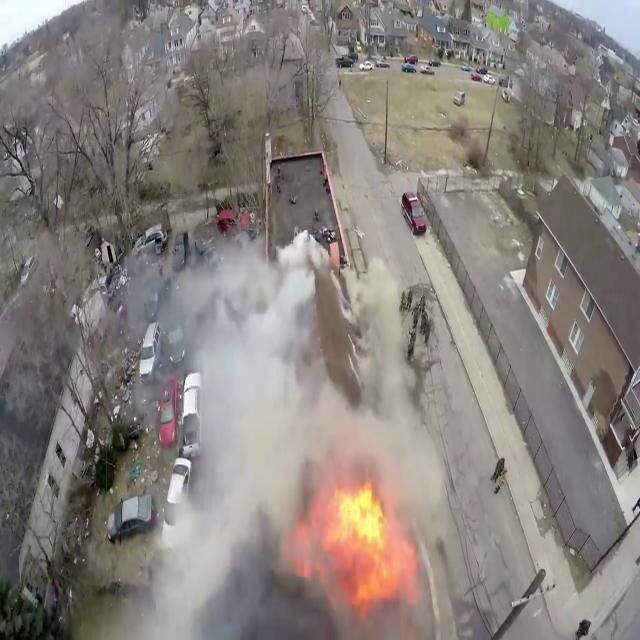Fire: (307, 470, 413, 614)
Smoke: (138, 278, 346, 638)
